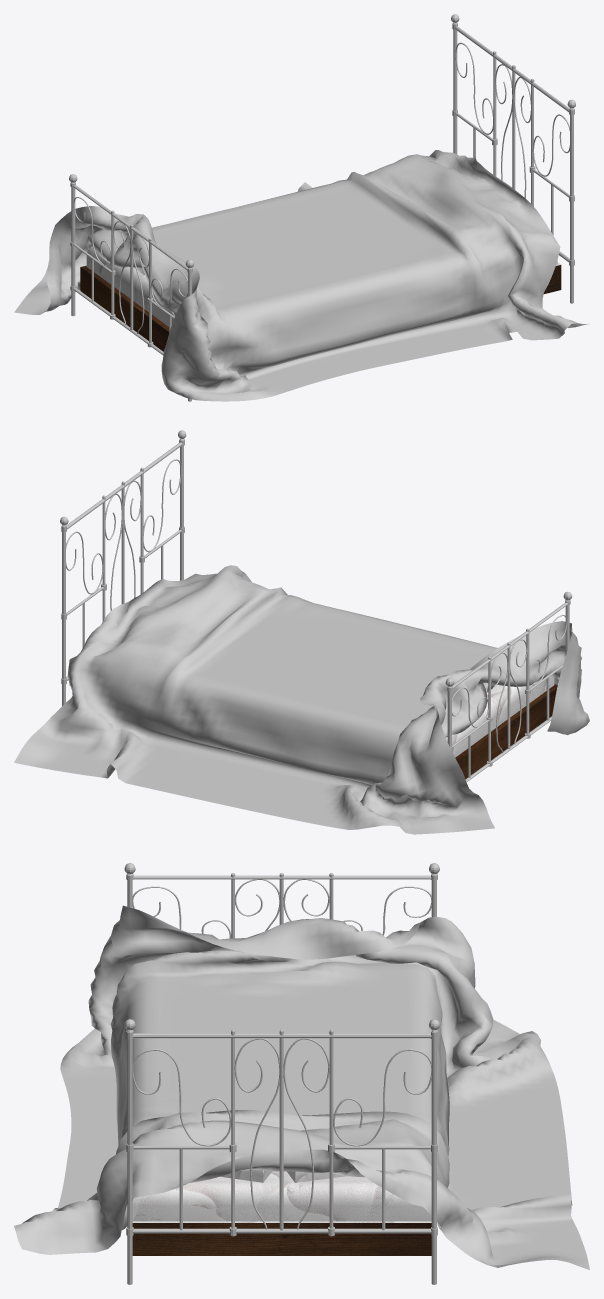
File: bed.fbx
3 views of the same model, one above another, from view 1: azimuth 30°, elevation 25°; view 2: azimuth 150°, elevation 25°; view 3: azimuth 270°, elevation 25° (orthographic). The views are drawn at different scales.
Parts seen in each view (by area): view 1: polySurface165; view 2: polySurface165; view 3: polySurface165.
Part boxes in pixels (<box>): polySurface165: <box>14,14,589,401</box>; polySurface165: <box>14,430,589,834</box>; polySurface165: <box>14,863,589,1284</box>.
Size of what is drawn, in the model's own units: 13.88 by 6.29 by 12.14.
